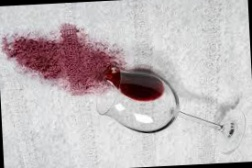wine: (10, 20, 124, 99)
